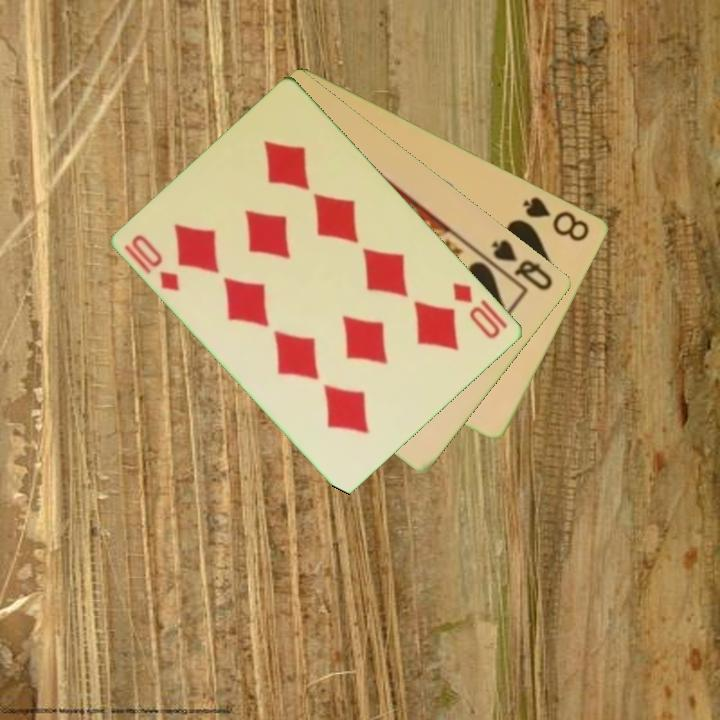10d: (128, 231, 184, 295), (449, 279, 504, 343)
8s: (520, 192, 593, 244)
Qs: (488, 235, 557, 294)
